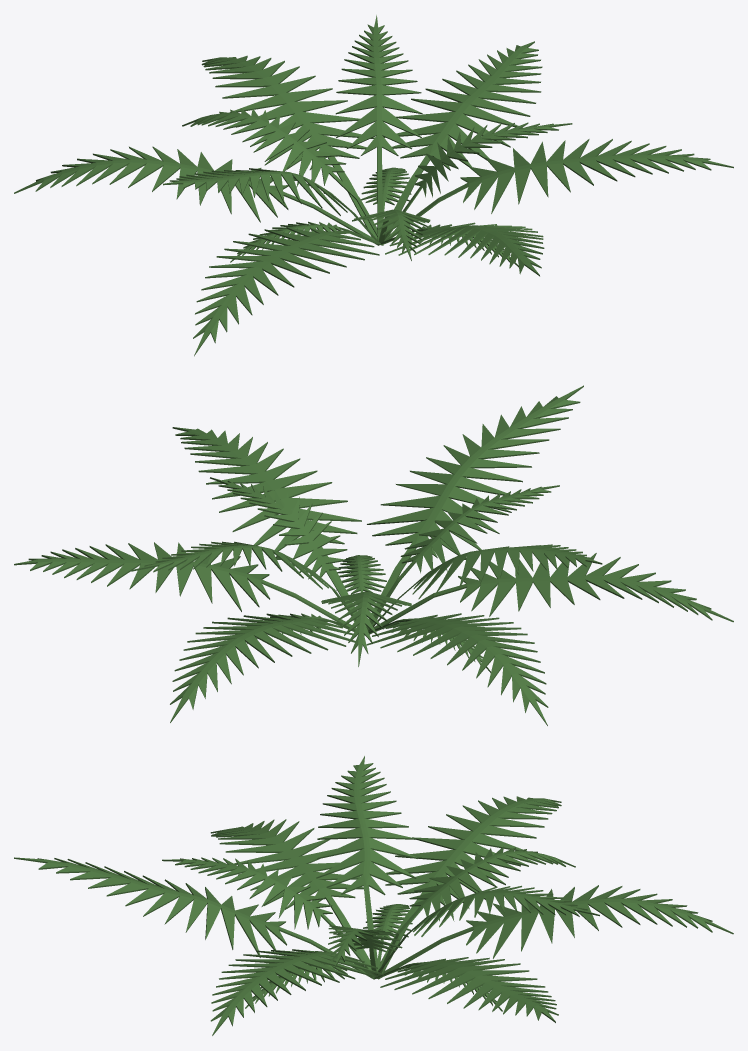
Rendered from Paporotnic3.fbx.
3 renders of one model, top to bottom at view 1: azimuth 30°, elevation 25°; view 2: azimuth 150°, elevation 25°; view 3: azimuth 270°, elevation 25°, orthographic. The views are drawn at different scales.
Parts seen in each view (by area): view 1: Paporotnic; view 2: Paporotnic; view 3: Paporotnic.
Part boxes in pixels (x1,y1,x2,y2): Paporotnic: (14,15,733,356); Paporotnic: (14,385,733,725); Paporotnic: (14,756,733,1035).
Bounding box in the file's own units: 220 × 46.33 × 260.
